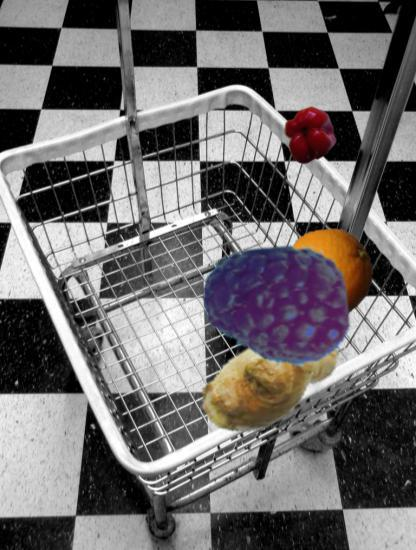Ginger: (196, 305, 346, 455)
Orange: (283, 227, 375, 319)
Pepper: (283, 108, 337, 162)
Raspberry: (202, 235, 350, 383)
Tamarillo: (246, 305, 300, 359)
